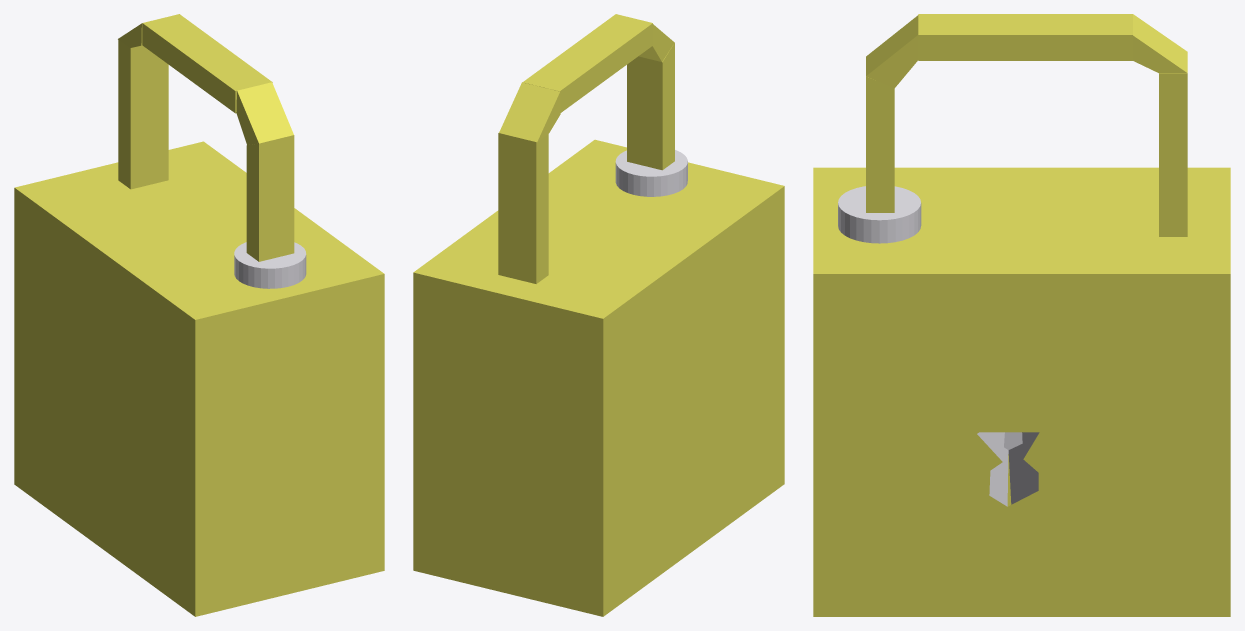
File: lock.gltf
3 views of the same model, side by side, from view 1: azimuth 30°, elevation 25°; view 2: azimuth 150°, elevation 25°; view 3: azimuth 270°, elevation 25° (orthographic). The views are drawn at different scales.
Visible parts, largest first — view 1: Cube, Cube.001, Cube.005, Cube.003, Cube.004, Cylinder; view 2: Cube, Cube.001, Cube.003, Cube.005, Cube.002, Cylinder, Cube.004; view 3: Cube, Cube.003, Cube.001, Cube.005, Cylinder, Cube.006, Cube.004, Cube.002.
Part boxes in pixels (box(x1,y1,x2,y2)): Cube: box(14, 141, 384, 616); Cube.001: box(118, 40, 168, 189); Cube.005: box(246, 135, 294, 261); Cube.003: box(142, 14, 272, 113); Cube.004: box(236, 82, 293, 144); Cylinder: box(234, 242, 306, 288); Cube: box(413, 139, 784, 616); Cube.001: box(498, 133, 548, 283); Cube.003: box(522, 14, 652, 112); Cube.005: box(627, 43, 674, 170); Cube.002: box(499, 82, 560, 142); Cylinder: box(615, 150, 687, 196); Cube.004: box(639, 24, 674, 61); Cube: box(813, 167, 1230, 616); Cube.003: box(918, 14, 1132, 60); Cube.001: box(1159, 73, 1187, 236); Cube.005: box(866, 76, 894, 212); Cylinder: box(838, 186, 921, 243); Cube.006: box(977, 432, 1039, 506); Cube.004: box(866, 15, 918, 88); Cube.002: box(1133, 14, 1187, 73).
Bounding box in the file's own units: 2 × 4.76 × 3.31.
